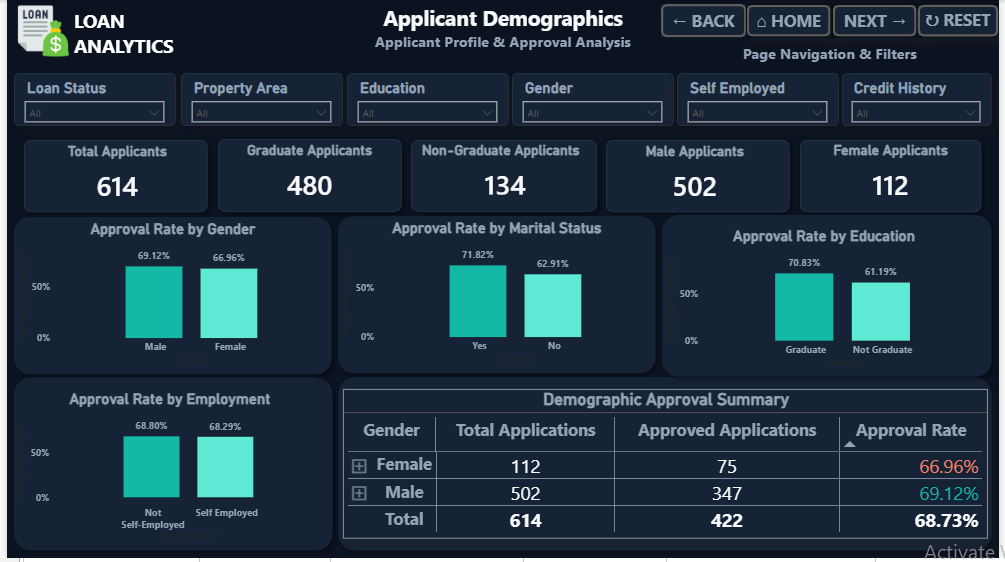

This screenshot's page, from the dashboard's own definition file:
{"tool":"powerbi","page":{"name":"Applicant Demographics","canvas":[1280,720],"ordinal":1},"visuals":[{"type":"group","id":"g1","title":"Group 4","box":[0,0,1279.8,720],"z":0},{"type":"textbox","box":[0,0,1279.8,79.4],"z":0,"group":"g1"},{"type":"shape","box":[836.2,267.9,443.6,226.8],"z":0,"group":"g16"},{"type":"shape","box":[0,270.7,428,221.1],"z":0,"group":"g13"},{"type":"shape","box":[418.2,270.7,428,221.1],"z":0,"group":"g18"},{"type":"group","id":"g2","title":"Group 9","box":[418.1,477.6,861.7,242.4],"z":0,"group":"g9"},{"type":"actionButton","box":[843.8,5.7,110.1,42.9],"z":1000},{"type":"group","id":"g3","title":"Group 3","box":[0,85,226.8,86.5],"z":1000,"group":"g1"},{"type":"clusteredColumnChart","title":"Approval Rate by Gender","fields":{"Category":["loan_data.gender"],"Y":["loan_data.Demographic Approval Rate"]},"box":[8.5,283.5,410,191.3],"z":1000,"group":"g13"},{"type":"clusteredColumnChart","title":"Approval Rate by Marital Status","fields":{"Category":["loan_data.married"],"Y":["loan_data.Demographic Approval Rate"]},"box":[426.7,283.5,410,191.3],"z":1000,"group":"g18"},{"type":"clusteredColumnChart","title":"Approval Rate by Education","fields":{"Category":["loan_data.education"],"Y":["loan_data.Demographic Approval Rate"]},"box":[844.7,291.8,418.1,185.7],"z":1000,"group":"g16"},{"type":"group","id":"g4","title":"Group 8","box":[0,477.6,429.4,242.4],"z":1000,"group":"g9"},{"type":"actionButton","box":[953.9,5.7,110.1,42.9],"z":2000},{"type":"group","id":"g5","title":"Group 3","box":[215.4,85,226.8,86.5],"z":2000,"group":"g1"},{"type":"shape","box":[0,477.6,429.4,242.4],"z":2000,"group":"g4"},{"type":"actionButton","box":[1064,5.7,110.1,42.9],"z":3000},{"type":"group","id":"g6","title":"Group 3","box":[429.4,85,226.8,86.5],"z":3000,"group":"g1"},{"type":"shape","box":[418.1,477.6,861.7,242.4],"z":3000,"group":"g2"},{"type":"actionButton","box":[1174.2,5.7,105.8,42.9],"z":4000},{"type":"shape","box":[0,85,226.8,86.5],"z":4000,"group":"g3"},{"type":"shape","box":[215.4,85,226.8,86.5],"z":4000,"group":"g5"},{"type":"shape","box":[429.4,85,226.8,86.5],"z":4000,"group":"g6"},{"type":"shape","box":[642,85,226.8,86.5],"z":4000,"group":"g11"},{"type":"shape","box":[856.1,85,226.8,86.5],"z":4000,"group":"g12"},{"type":"shape","box":[1068.7,85,211.2,86.5],"z":4000,"group":"g14"},{"type":"group","id":"g7","title":"Group 7","box":[12.8,170.8,1252.6,321],"z":4000,"group":"g1"},{"type":"shape","box":[1013.5,171.5,251.9,111.3],"z":4000,"group":"g19"},{"type":"shape","box":[12.8,172.2,254.8,111.3],"z":4000,"group":"g8"},{"type":"shape","box":[763.8,172.2,254.8,111.3],"z":4000,"group":"g17"},{"type":"shape","box":[512,172.5,258,110.6],"z":4000,"group":"g15"},{"type":"textbox","box":[844.3,51.4,435.7,44.3],"z":5000},{"type":"group","id":"g8","title":"Group 1","box":[12.8,172.2,254.8,111.3],"z":5000,"group":"g7"},{"type":"cardVisual","title":"Female Applicants","fields":{"Data":["loan_data.Female Applicants"]},"box":[1028.5,183.6,221.1,86.5],"z":5000,"group":"g19"},{"type":"cardVisual","title":"Non-Graduate Applicants","fields":{"Data":["loan_data.Non-Graduate Applicants"]},"box":[529.7,184.4,225.7,85.4],"z":5000,"group":"g15"},{"type":"cardVisual","title":"Total Applicants","fields":{"Data":["loan_data.total_applications"]},"box":[30.3,184.6,223,86.5],"z":5000,"group":"g8"},{"type":"cardVisual","title":"Male Applicants","fields":{"Data":["loan_data.Male Applicants"]},"box":[780.6,184.6,214.1,86.5],"z":5000,"group":"g17"},{"type":"group","id":"g9","title":"Group 10","box":[0,477.6,1279.8,242.4],"z":5000,"group":"g1"},{"type":"group","id":"g10","title":"Group 6","box":[12.8,0,323.1,96.4],"z":6000,"group":"g1"},{"type":"shape","box":[262.6,170.8,255.1,112],"z":6000,"group":"g20"},{"type":"clusteredColumnChart","title":"Approval Rate by Employment","fields":{"Category":["loan_data.self_employed"],"Y":["loan_data.Demographic Approval Rate"]},"box":[8.2,503.1,404.8,198.4],"z":6000,"group":"g4"},{"type":"group","id":"g11","title":"Group 3","box":[642,85,226.8,86.5],"z":7000,"group":"g1"},{"type":"pivotTable","title":"Demographic Approval Summary","fields":{"Rows":["loan_data.gender","loan_data.education","loan_data.married","loan_data.self_employed"],"Values":["loan_data.total_applications","loan_data.approved_applicants","loan_data.Demographic Approval Rate"]},"box":[433.5,502.2,832,192.8],"z":7000,"group":"g2"},{"type":"group","id":"g12","title":"Group 3","box":[856.1,85,226.8,86.5],"z":8000,"group":"g1"},{"type":"cardVisual","title":"Graduate Applicants","fields":{"Data":["loan_data.Graduate Applicants"]},"box":[289.8,183.6,200.7,86.5],"z":8000,"group":"g20"},{"type":"slicer","fields":{"Values":["loan_data.loan_status"]},"box":[12.8,96.7,199.8,63],"z":8003,"group":"g3"},{"type":"slicer","fields":{"Values":["loan_data.property_area"]},"box":[228.2,96.7,199.8,63],"z":8003,"group":"g5"},{"type":"slicer","fields":{"Values":["loan_data.education"]},"box":[442.2,96.7,199.8,63],"z":8003,"group":"g6"},{"type":"slicer","fields":{"Values":["loan_data.gender"]},"box":[654.8,96.7,199.8,63],"z":8003,"group":"g11"},{"type":"slicer","fields":{"Values":["loan_data.self_employed"]},"box":[868.9,96.7,199.8,63],"z":8003,"group":"g12"},{"type":"slicer","fields":{"Values":["loan_data.credit_history"]},"box":[1080.6,96.7,186.1,63],"z":8003,"group":"g14"},{"type":"textbox","box":[80.8,5.7,255.1,90.7],"z":9000,"group":"g10"},{"type":"group","id":"g13","title":"Group 5","box":[0,270.7,428,221.1],"z":9000,"group":"g1"},{"type":"group","id":"g14","title":"Group 3","box":[1068.7,85,211.2,86.5],"z":10000,"group":"g1"},{"type":"group","id":"g15","title":"Group 1","box":[512,172.5,258,110.6],"z":11000,"group":"g7"},{"type":"group","id":"g16","title":"Group 5","box":[836.2,267.9,443.6,226.8],"z":11000,"group":"g1"},{"type":"group","id":"g17","title":"Group 1","box":[763.8,172.2,254.8,111.3],"z":15000,"group":"g7"},{"type":"group","id":"g18","title":"Group 5","box":[418.2,270.7,428,221.1],"z":16000,"group":"g7"},{"type":"image","box":[12.8,0,68,79.4],"z":17000,"group":"g10"},{"type":"group","id":"g19","title":"Group 1","box":[1013.5,171.5,251.9,111.3],"z":18000,"group":"g7"},{"type":"group","id":"g20","title":"Group 2","box":[262.6,170.8,255.1,112],"z":19000,"group":"g7"}]}

Visuals, with their boxes in screenshot pixels (x1, y1, x2, y2), scaled from the page's 1280x720 canvas onto the 1005x562 screenshot:
"Group 4" group: region(0, 0, 1004, 561)
textbox: region(0, 0, 1004, 62)
shape: region(657, 209, 1004, 386)
shape: region(0, 211, 336, 384)
shape: region(328, 211, 664, 384)
"Group 9" group: region(328, 373, 1004, 561)
actionButton: region(663, 4, 749, 38)
"Group 3" group: region(0, 66, 178, 134)
"Approval Rate by Gender" clusteredColumnChart: region(7, 221, 329, 371)
"Approval Rate by Marital Status" clusteredColumnChart: region(335, 221, 657, 371)
"Approval Rate by Education" clusteredColumnChart: region(663, 228, 991, 373)
"Group 8" group: region(0, 373, 337, 561)
actionButton: region(749, 4, 835, 38)
"Group 3" group: region(169, 66, 347, 134)
shape: region(0, 373, 337, 561)
actionButton: region(835, 4, 922, 38)
"Group 3" group: region(337, 66, 515, 134)
shape: region(328, 373, 1004, 561)
actionButton: region(922, 4, 1004, 38)
shape: region(0, 66, 178, 134)
shape: region(169, 66, 347, 134)
shape: region(337, 66, 515, 134)
shape: region(504, 66, 682, 134)
shape: region(672, 66, 850, 134)
shape: region(839, 66, 1004, 134)
"Group 7" group: region(10, 133, 994, 384)
shape: region(796, 134, 994, 221)
shape: region(10, 134, 210, 221)
shape: region(600, 134, 800, 221)
shape: region(402, 135, 605, 221)
textbox: region(663, 40, 1004, 75)
"Group 1" group: region(10, 134, 210, 221)
"Female Applicants" cardVisual: region(808, 143, 981, 211)
"Non-Graduate Applicants" cardVisual: region(416, 144, 593, 211)
"Total Applicants" cardVisual: region(24, 144, 199, 212)
"Male Applicants" cardVisual: region(613, 144, 781, 212)
"Group 10" group: region(0, 373, 1004, 561)
"Group 6" group: region(10, 0, 264, 75)
shape: region(206, 133, 406, 221)
"Approval Rate by Employment" clusteredColumnChart: region(6, 393, 324, 548)
"Group 3" group: region(504, 66, 682, 134)
"Demographic Approval Summary" pivotTable: region(340, 392, 994, 542)
"Group 3" group: region(672, 66, 850, 134)
"Graduate Applicants" cardVisual: region(228, 143, 385, 211)
slicer - loan_data.loan_status: region(10, 75, 167, 125)
slicer - loan_data.property_area: region(179, 75, 336, 125)
slicer - loan_data.education: region(347, 75, 504, 125)
slicer - loan_data.gender: region(514, 75, 671, 125)
slicer - loan_data.self_employed: region(682, 75, 839, 125)
slicer - loan_data.credit_history: region(848, 75, 995, 125)
textbox: region(63, 4, 264, 75)
"Group 5" group: region(0, 211, 336, 384)
"Group 3" group: region(839, 66, 1004, 134)
"Group 1" group: region(402, 135, 605, 221)
"Group 5" group: region(657, 209, 1004, 386)
"Group 1" group: region(600, 134, 800, 221)
"Group 5" group: region(328, 211, 664, 384)
image: region(10, 0, 63, 62)
"Group 1" group: region(796, 134, 994, 221)
"Group 2" group: region(206, 133, 406, 221)
